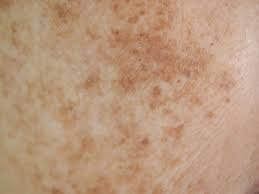Melasma: (37, 2, 237, 136), (64, 150, 163, 188)
